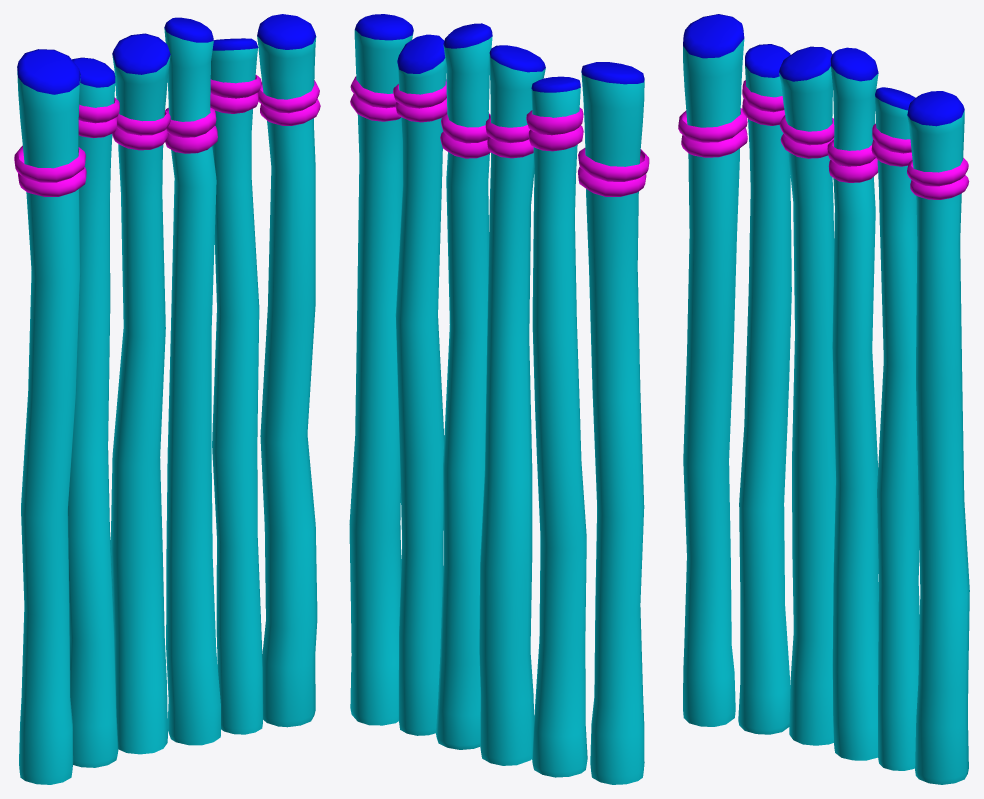
Rendered from SM_Barricade.FBX.
3 views of the same model, side by side, from view 1: azimuth 30°, elevation 25°; view 2: azimuth 150°, elevation 25°; view 3: azimuth 330°, elevation 25° (orthographic). The views are drawn at different scales.
Visible parts, largest first — view 1: SM_Barricade; view 2: SM_Barricade; view 3: SM_Barricade.
Part boxes in pixels (x1,y1,x2,y2): SM_Barricade: (14,14,320,784); SM_Barricade: (349,14,649,784); SM_Barricade: (678,14,969,784).
Bounding box in the file's own units: 293 × 679 × 73.8.
